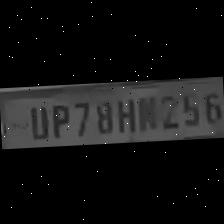2: (155, 90, 179, 130)
5: (178, 88, 200, 127)
6: (200, 88, 222, 124)
7: (68, 97, 92, 136)
8: (90, 96, 114, 134)
H: (113, 94, 138, 133)
N: (136, 91, 158, 131)
P: (46, 99, 72, 138)
U: (22, 101, 49, 139)
